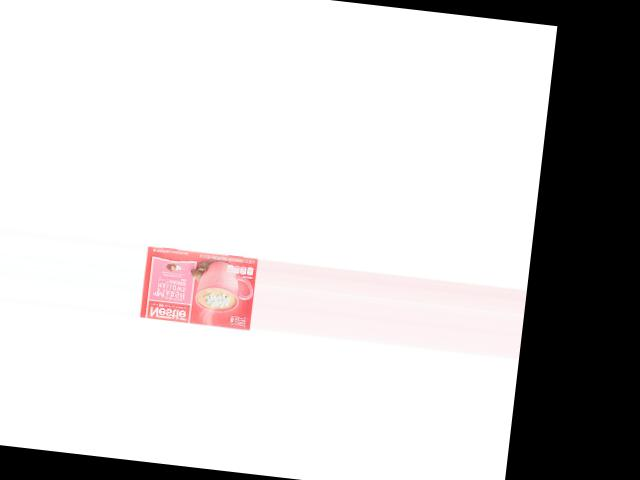chocolate: (142, 241, 259, 327)
